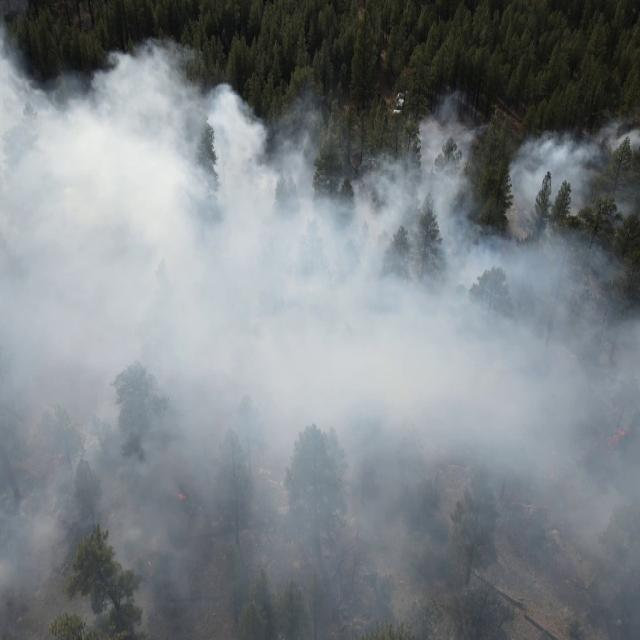fire: (600, 415, 636, 456), (167, 475, 195, 514)
smoke: (202, 80, 640, 640), (45, 37, 204, 640), (0, 1, 43, 640)
